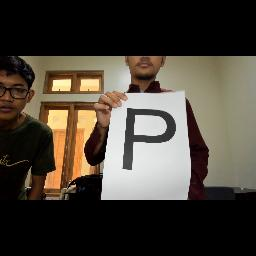p: (115, 104, 181, 180)
